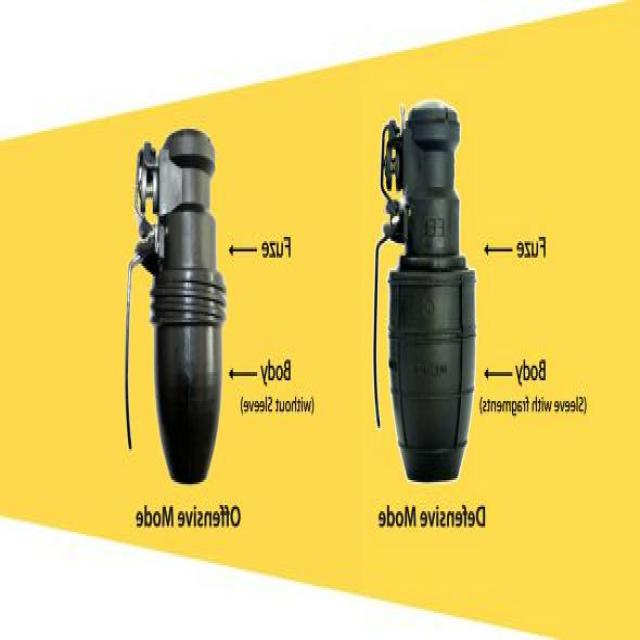grenade: (374, 103, 477, 485), (126, 130, 229, 485)
